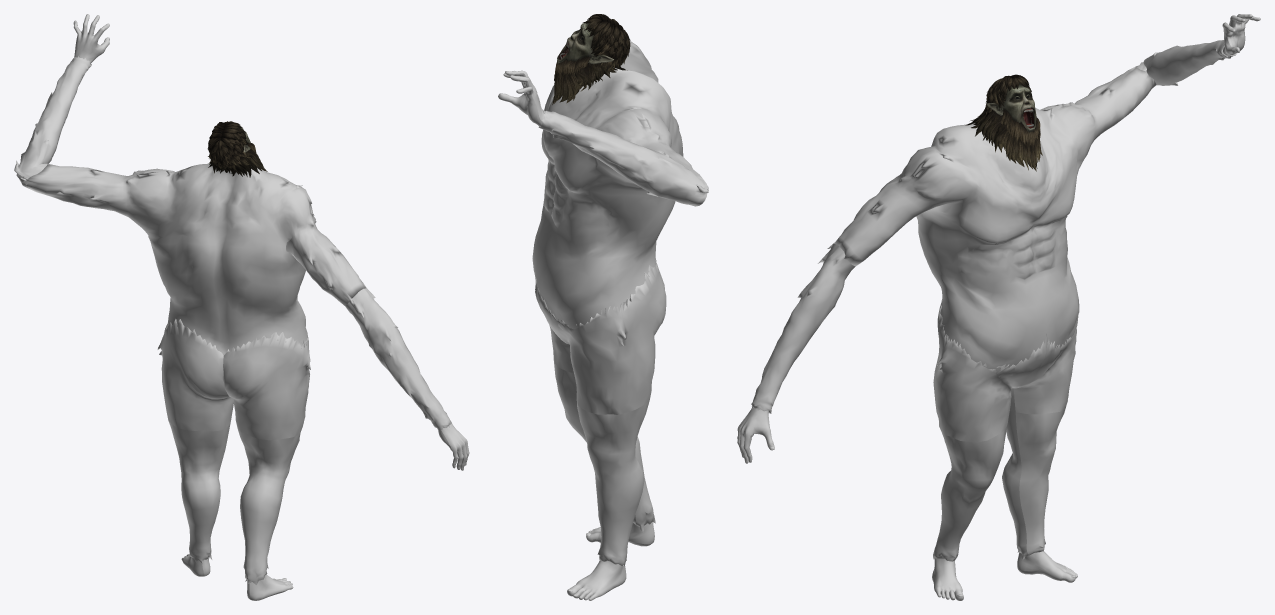
3 renders of one model, left to right at view 1: azimuth 30°, elevation 25°; view 2: azimuth 150°, elevation 25°; view 3: azimuth 270°, elevation 25°, orthographic. The views are drawn at different scales.
Parts seen in each view (by area): view 1: Model001_40_surface_003_ref_0_0_1_16_16_004, Model001_40_surface_002_ref_0_0_1_16_16_005, Model001_40_surface_000_ref_0_014_0_1_16_16_003, Model001_40_surface_000_ref_0_005_0_1_16_16_005, Model001_40_surface_000_ref_0_003_0_1_16_16_005, Model001_40_surface_000_ref_0_001_0_1_16_16_005, Model001_40_surface_006_ref_0_0_1_16_16_003, Model001_40_surface_001_ref_0_002_0_1_16_16_003, Model001_40_surface_001_ref_0_008_0_1_16_16_003; view 2: Model001_40_surface_003_ref_0_0_1_16_16_004, Model001_40_surface_002_ref_0_0_1_16_16_005, Model001_40_surface_000_ref_0_005_0_1_16_16_005, Model001_40_surface_000_ref_0_001_0_1_16_16_005, Model001_40_surface_006_ref_0_0_1_16_16_003, Model001_40_surface_000_ref_0_014_0_1_16_16_003, Model001_40_surface_001_ref_0_002_0_1_16_16_003, Model001_40_surface_004_ref_0_0_1_16_16_004; view 3: Model001_40_surface_003_ref_0_0_1_16_16_004, Model001_40_surface_002_ref_0_0_1_16_16_005, Model001_40_surface_000_ref_0_005_0_1_16_16_005, Model001_40_surface_000_ref_0_014_0_1_16_16_003, Model001_40_surface_000_ref_0_003_0_1_16_16_005, Model001_40_surface_006_ref_0_0_1_16_16_003, Model001_40_surface_000_ref_0_001_0_1_16_16_005, Model001_40_surface_001_ref_0_008_0_1_16_16_003, Model001_40_surface_004_ref_0_0_1_16_16_004, Model001_40_surface_001_ref_0_002_0_1_16_16_003.
Boxes of the visible parts, x1,y1,x2,y2 form: Model001_40_surface_003_ref_0_0_1_16_16_004: (22, 163, 367, 355); Model001_40_surface_002_ref_0_0_1_16_16_005: (157, 319, 310, 440); Model001_40_surface_000_ref_0_014_0_1_16_16_003: (238, 429, 300, 600); Model001_40_surface_000_ref_0_005_0_1_16_16_005: (168, 421, 230, 576); Model001_40_surface_000_ref_0_003_0_1_16_16_005: (345, 288, 451, 430); Model001_40_surface_000_ref_0_001_0_1_16_16_005: (14, 56, 91, 186); Model001_40_surface_006_ref_0_0_1_16_16_003: (207, 121, 267, 177); Model001_40_surface_001_ref_0_002_0_1_16_16_003: (73, 14, 109, 63); Model001_40_surface_001_ref_0_008_0_1_16_16_003: (437, 423, 469, 470); Model001_40_surface_003_ref_0_0_1_16_16_004: (532, 41, 707, 333); Model001_40_surface_002_ref_0_0_1_16_16_005: (535, 260, 666, 414); Model001_40_surface_000_ref_0_005_0_1_16_16_005: (567, 399, 649, 600); Model001_40_surface_000_ref_0_001_0_1_16_16_005: (538, 109, 708, 206); Model001_40_surface_006_ref_0_0_1_16_16_003: (552, 14, 630, 104); Model001_40_surface_000_ref_0_014_0_1_16_16_003: (554, 361, 655, 546); Model001_40_surface_001_ref_0_002_0_1_16_16_003: (498, 70, 543, 126); Model001_40_surface_004_ref_0_0_1_16_16_004: (557, 23, 613, 63); Model001_40_surface_003_ref_0_0_1_16_16_004: (833, 66, 1152, 377); Model001_40_surface_002_ref_0_0_1_16_16_005: (933, 299, 1077, 442); Model001_40_surface_000_ref_0_005_0_1_16_16_005: (1002, 404, 1077, 582); Model001_40_surface_000_ref_0_014_0_1_16_16_003: (932, 424, 1007, 600); Model001_40_surface_000_ref_0_003_0_1_16_16_005: (751, 244, 855, 413); Model001_40_surface_006_ref_0_0_1_16_16_003: (965, 74, 1042, 171); Model001_40_surface_000_ref_0_001_0_1_16_16_005: (1135, 40, 1237, 88); Model001_40_surface_001_ref_0_008_0_1_16_16_003: (737, 407, 774, 463); Model001_40_surface_004_ref_0_0_1_16_16_004: (987, 83, 1036, 132); Model001_40_surface_001_ref_0_002_0_1_16_16_003: (1222, 14, 1260, 55).
Size of the model in its own units: 252 by 433 by 373.
